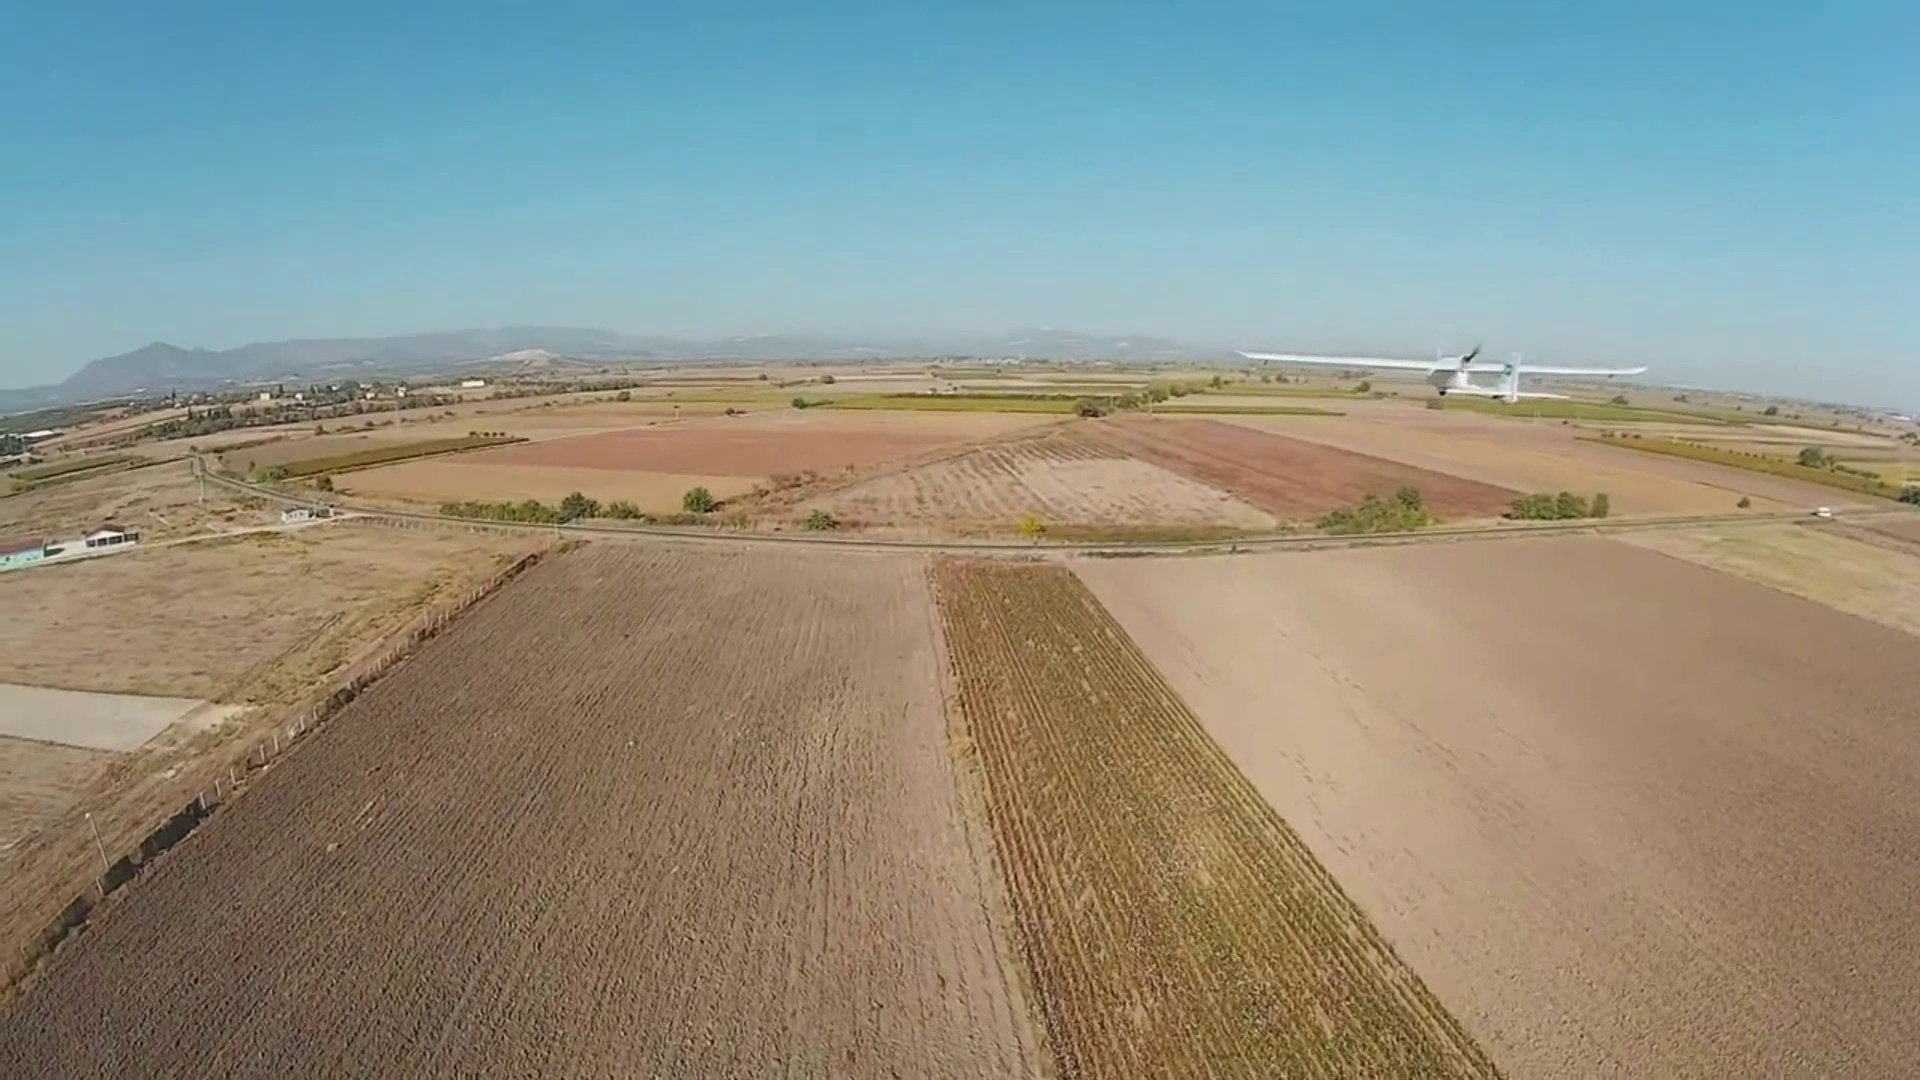airplane: (1, 526, 138, 572)
